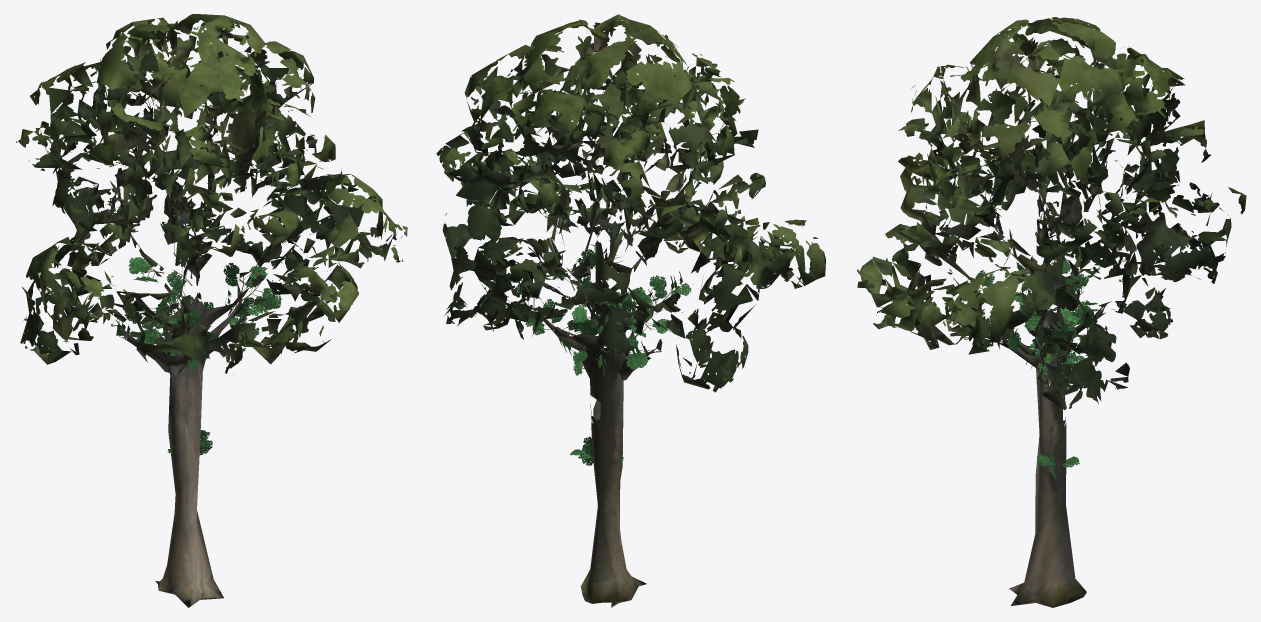
The model's file is tree-1527-mid.glb.
The picture shows the model from 3 angles, left to right: view 1: azimuth 30°, elevation 25°; view 2: azimuth 150°, elevation 25°; view 3: azimuth 270°, elevation 25°; orthographic projection.
Visible parts, largest first — view 1: Foliage, Wood; view 2: Foliage, Wood; view 3: Foliage, Wood.
Part boxes in pixels (box(x1,y1,x2,y2)): Foliage: box(16, 14, 407, 455); Wood: box(119, 263, 249, 607); Foliage: box(436, 14, 825, 467); Wood: box(544, 271, 660, 607); Foliage: box(857, 17, 1246, 479); Wood: box(999, 279, 1107, 607).
Bounding box in the file's own units: 7.58 × 11.98 × 7.37.
2 materials, 2 textured.
